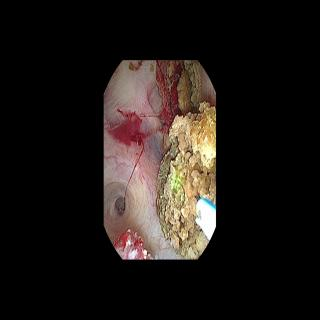stone: (156, 62, 215, 257)
tissue: (107, 64, 171, 256)
